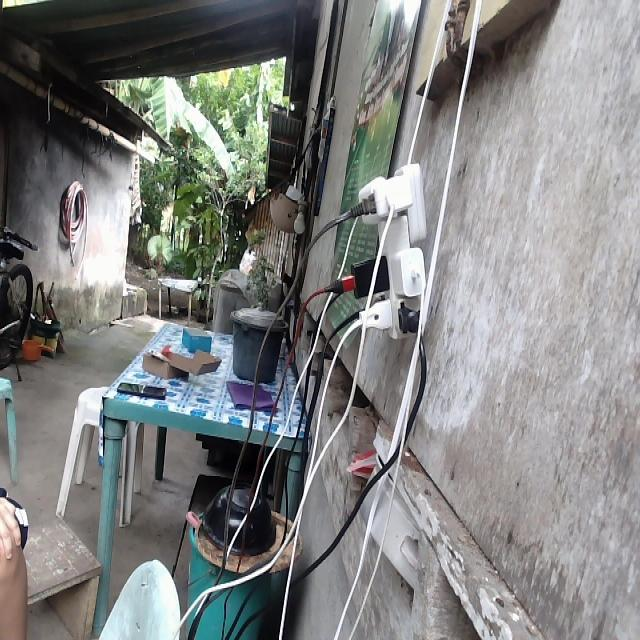-: (326, 163, 427, 340)
